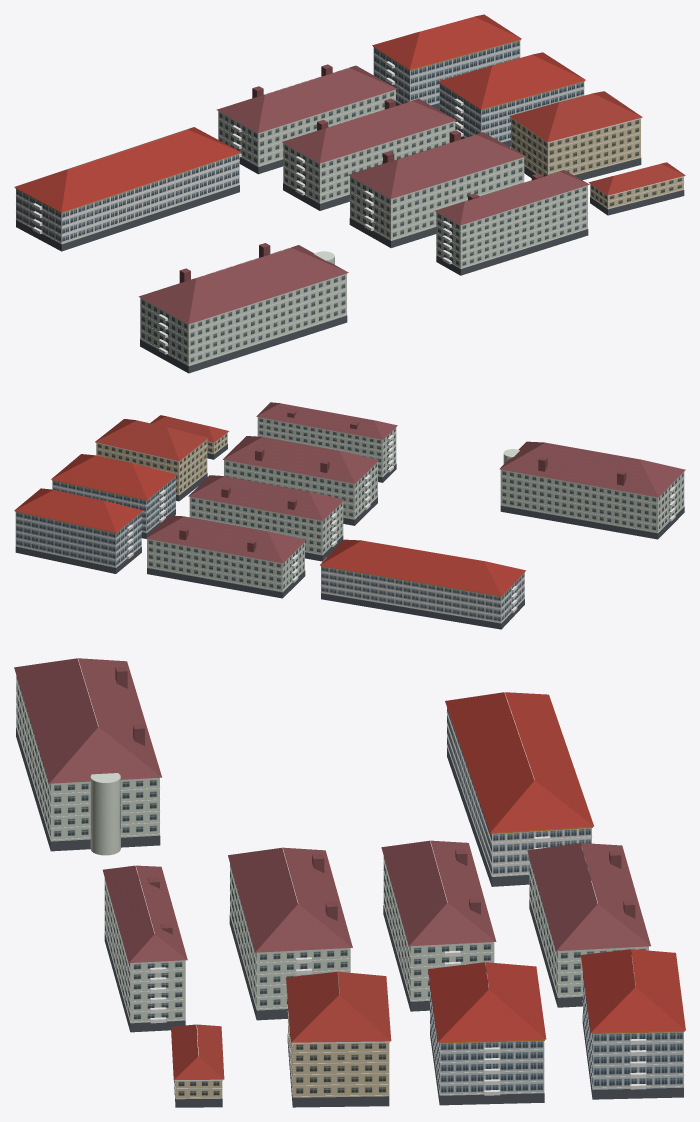
File: dorm_qinyuan_e4.glb
3 views of the same model, one above another, from view 1: azimuth 30°, elevation 25°; view 2: azimuth 150°, elevation 25°; view 3: azimuth 270°, elevation 25° (orthographic). The views are drawn at different scales.
Visible parts, largest first — view 1: 862959358, 1316148868, 1316148865, 862959355, 1316148866, 1316148867, 862959354, 862959352, 862959353, 1316307762; view 2: 862959358, 1316148868, 1316148867, 862959352, 1316148866, 1316148865, 862959355, 862959353, 862959354, 1316307762; view 3: 862959358, 1316148868, 862959353, 1316148865, 862959352, 862959354, 1316148866, 1316148867, 862959355, 1316307762.
Part boxes in pixels (<box>): 862959358: <box>138,243,348,373</box>; 1316148868: <box>14,127,241,251</box>; 1316148865: <box>348,130,525,247</box>; 862959355: <box>435,170,589,275</box>; 1316148866: <box>282,98,456,210</box>; 1316148867: <box>216,64,397,174</box>; 862959354: <box>509,91,642,180</box>; 862959352: <box>372,14,521,109</box>; 862959353: <box>438,52,585,146</box>; 1316307762: <box>588,162,685,215</box>; 862959358: <box>499,441,685,539</box>; 1316148868: <box>320,539,525,629</box>; 1316148867: <box>146,515,306,598</box>; 862959352: <box>14,488,142,573</box>; 1316148866: <box>188,475,344,561</box>; 1316148865: <box>222,436,378,525</box>; 862959355: <box>256,402,397,482</box>; 862959353: <box>51,454,177,538</box>; 862959354: <box>95,419,208,501</box>; 1316307762: <box>150,415,228,459</box>; 862959358: <box>14,658,162,855</box>; 1316148868: <box>445,692,594,886</box>; 862959353: <box>428,962,546,1105</box>; 1316148865: <box>228,847,352,1020</box>; 862959352: <box>581,949,685,1099</box>; 862959354: <box>286,971,391,1107</box>; 1316148866: <box>381,840,496,1011</box>; 1316148867: <box>527,843,650,1007</box>; 862959355: <box>102,865,187,1032</box>; 1316307762: <box>171,1024,224,1107</box>.
Bounding box in the file's own units: 249 × 30.18 × 187.
Materials: 4 (3 with a texture image).
